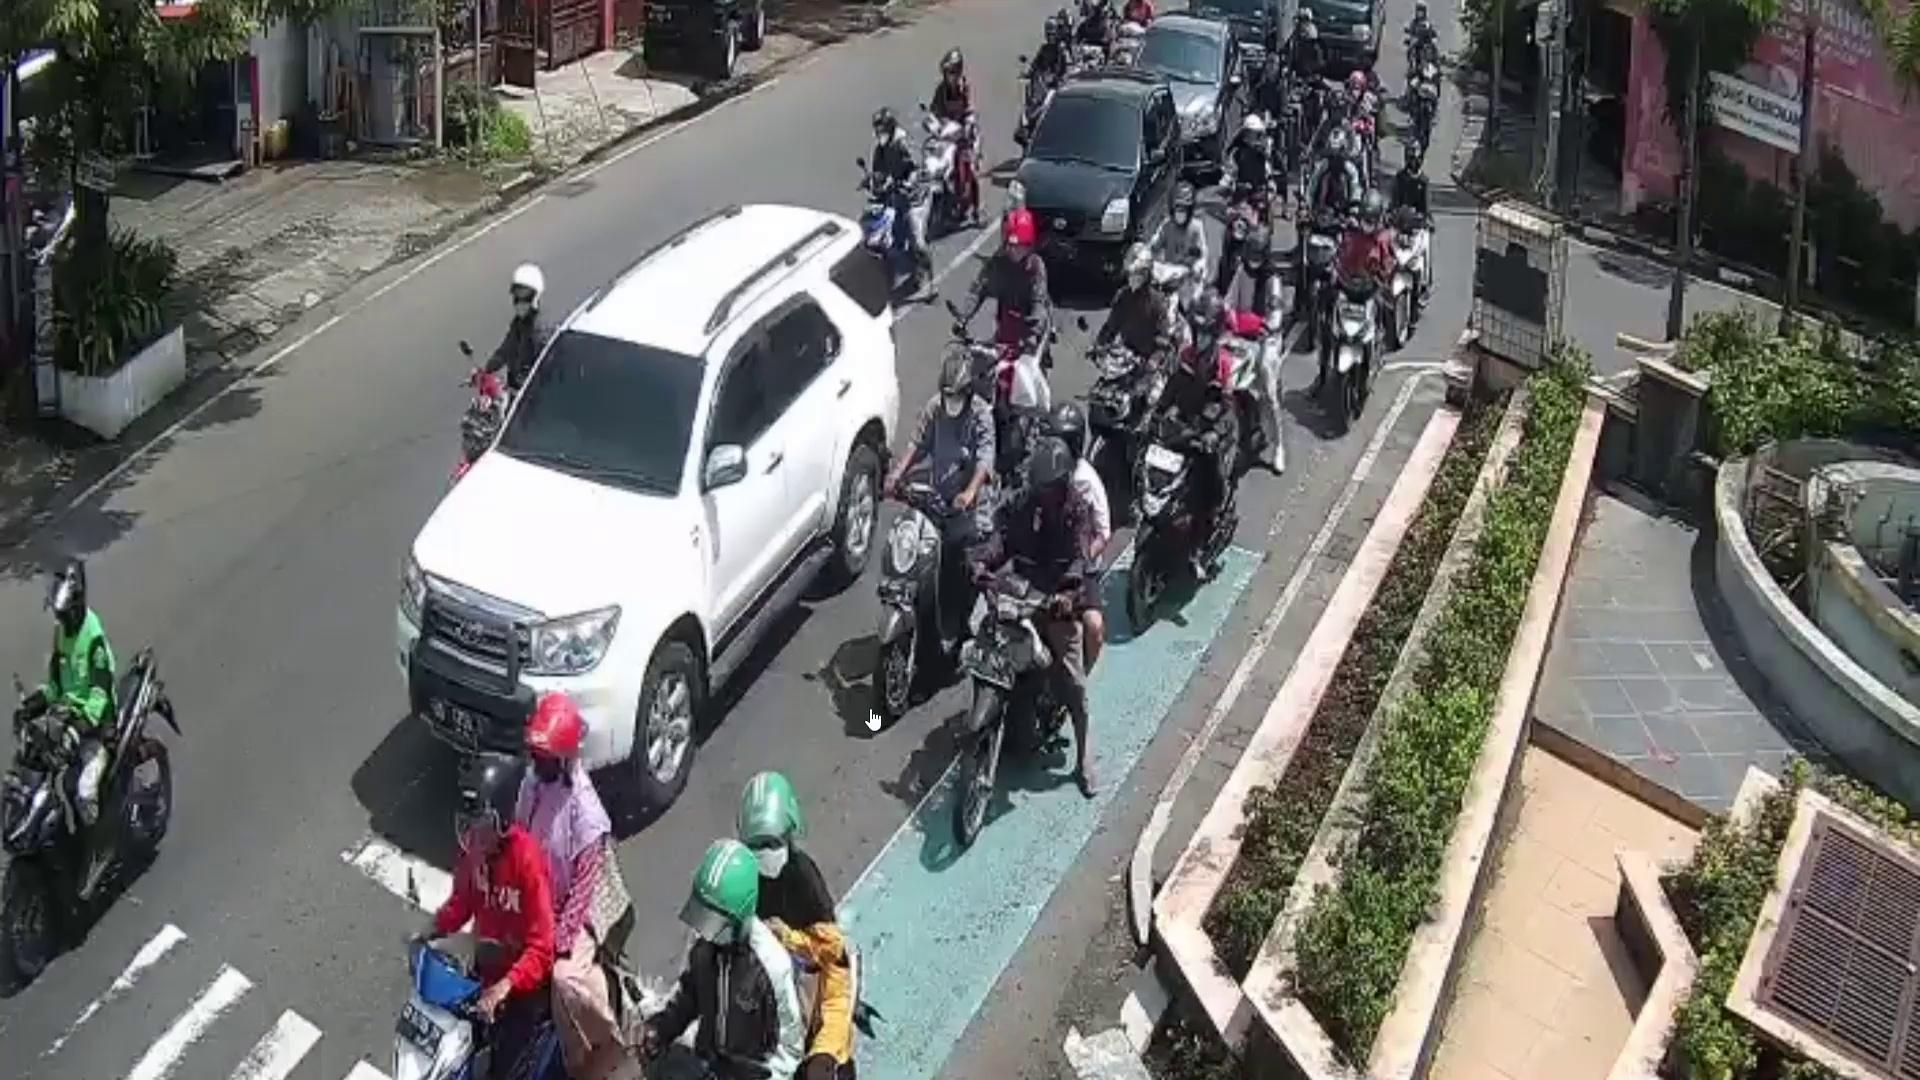car: (396, 202, 903, 808), (1006, 67, 1182, 286), (1133, 13, 1247, 178)
motorbike: (4, 644, 170, 984), (953, 567, 1058, 866), (872, 476, 953, 740), (1130, 409, 1199, 630), (1320, 264, 1378, 434), (1389, 200, 1432, 348)
